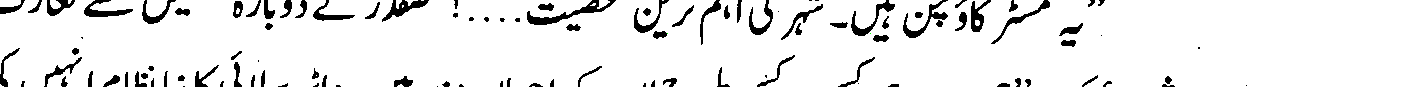bay_shosha: (261, 5, 275, 32)
